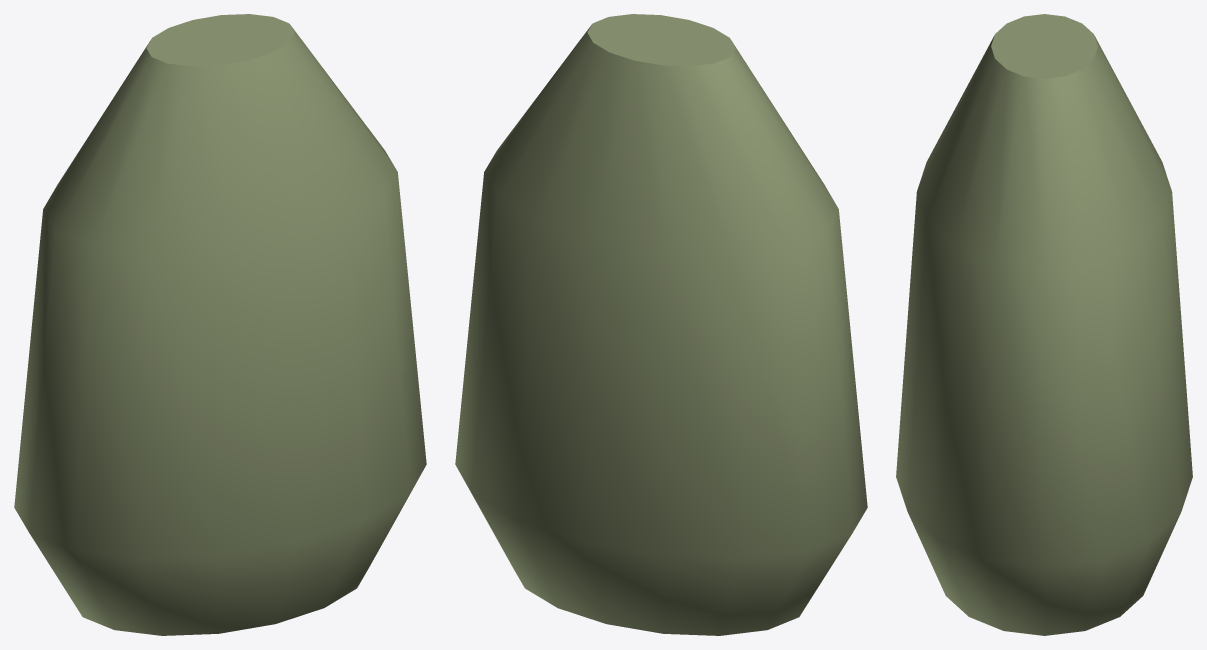
File: scavengers-loot-library-burlap-sack-ecee0841__2660.glb
The picture shows the model from 3 angles, left to right: view 1: azimuth 30°, elevation 25°; view 2: azimuth 150°, elevation 25°; view 3: azimuth 270°, elevation 25°; orthographic projection. The views are drawn at different scales.
Parts seen in each view (by area): view 1: burlap-sack; view 2: burlap-sack; view 3: burlap-sack.
Boxes of the visible parts, left/top/right/bottom form: burlap-sack: left=14, top=14, right=426, bottom=635; burlap-sack: left=455, top=14, right=867, bottom=635; burlap-sack: left=896, top=14, right=1192, bottom=635.
Size of the model in its own units: 0.23 by 0.32 by 0.16.
